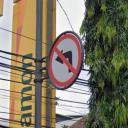NoVirarEsquerda: (46, 28, 82, 90)
